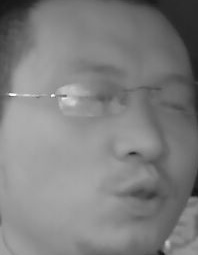glass: (56, 77, 130, 121)
mouth: (108, 176, 168, 214)
